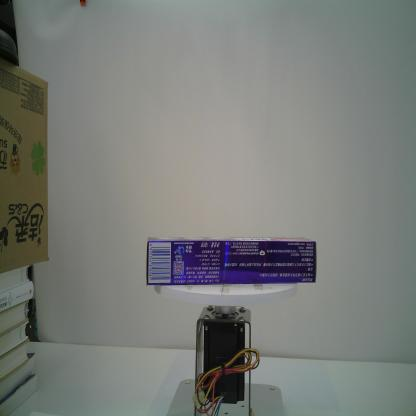Personal Hygiene: (146, 237, 317, 284)
